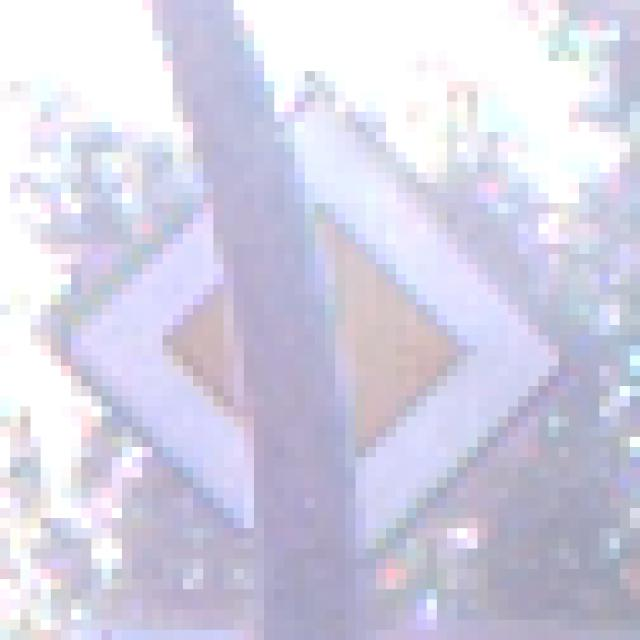Main Road: (52, 62, 590, 590)
